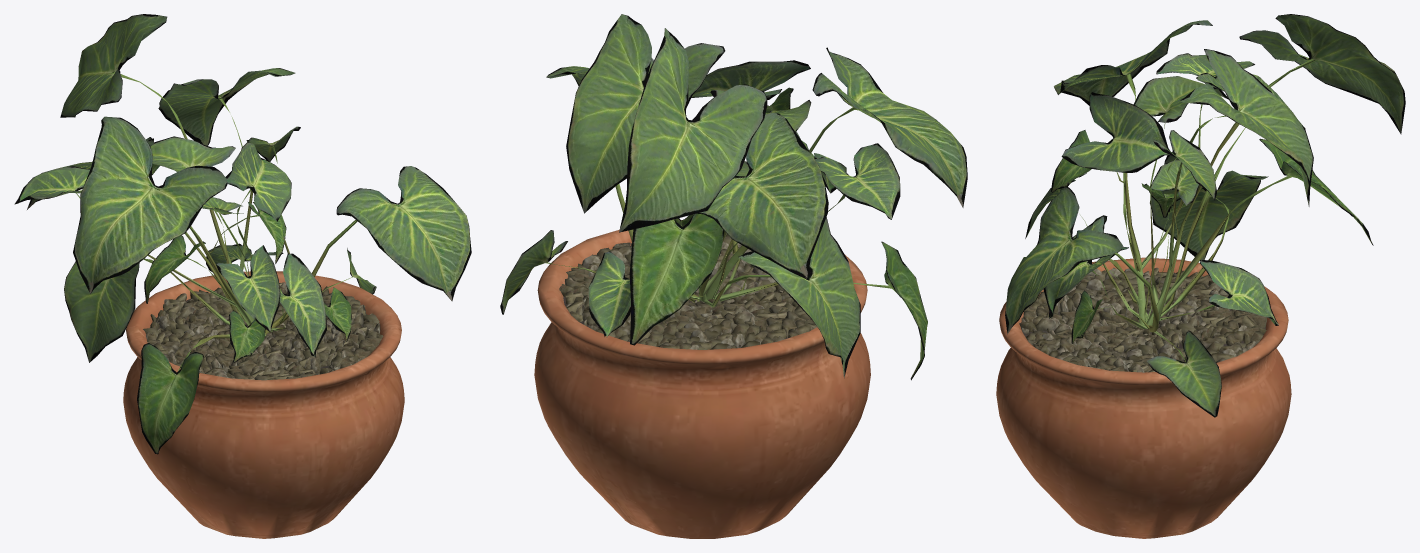
The model's file is potted_plant_02.glb.
3 views of the same model, side by side, from view 1: azimuth 30°, elevation 25°; view 2: azimuth 150°, elevation 25°; view 3: azimuth 270°, elevation 25° (orthographic). The views are drawn at different scales.
Visible parts, largest first — view 1: potted_plant_02_leaves, potted_plant_02_pot; view 2: potted_plant_02_leaves, potted_plant_02_pot; view 3: potted_plant_02_pot, potted_plant_02_leaves.
Boxes of the visible parts, box(x1,y1,x2,y2) form: potted_plant_02_leaves: box(14, 14, 471, 454); potted_plant_02_pot: box(123, 271, 404, 538); potted_plant_02_leaves: box(500, 14, 967, 380); potted_plant_02_pot: box(534, 220, 870, 538); potted_plant_02_pot: box(996, 257, 1291, 538); potted_plant_02_leaves: box(1005, 14, 1405, 417).
Size of the model in its own units: 0.7009 by 0.8401 by 0.6574.
2 materials, 2 textured.
